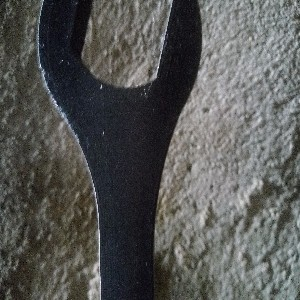spanner: (37, 1, 203, 300)
